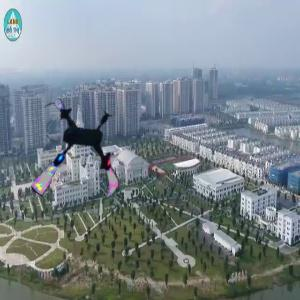drone: (23, 98, 139, 214)
